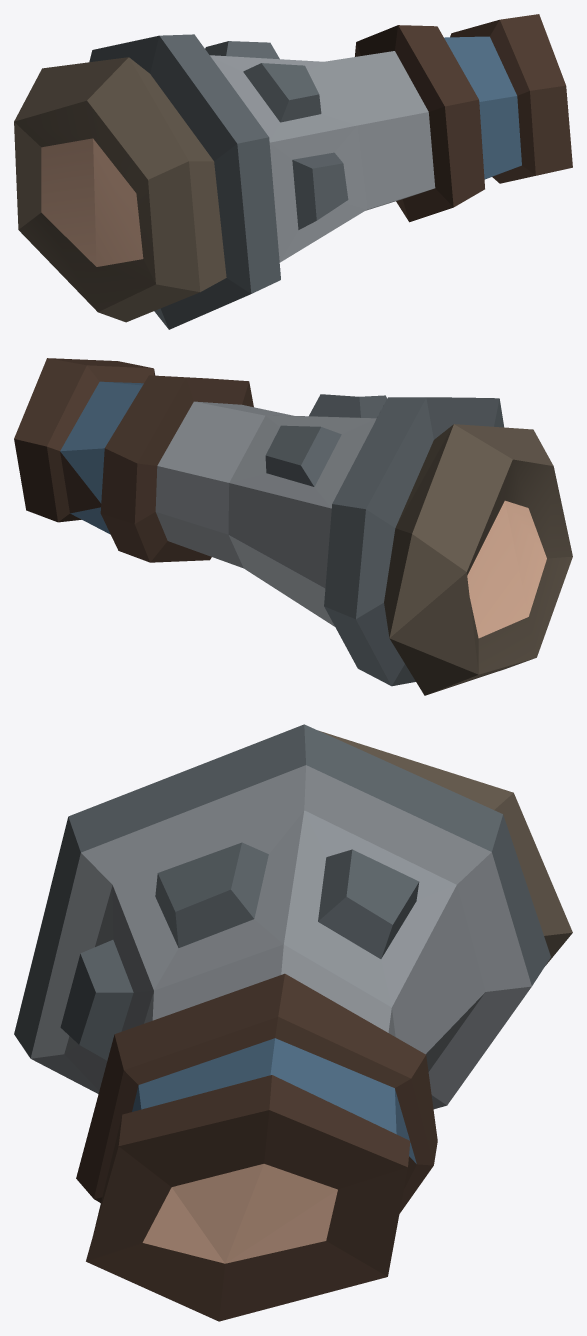
File: Chr_ArmLowerLeft_Male_15_Static.fbx
3 renders of one model, top to bottom at view 1: azimuth 30°, elevation 25°; view 2: azimuth 150°, elevation 25°; view 3: azimuth 270°, elevation 25°, orthographic. The views are drawn at different scales.
Visible parts, largest first — view 1: Chr_ArmLowerLeft_Male_15_Static; view 2: Chr_ArmLowerLeft_Male_15_Static; view 3: Chr_ArmLowerLeft_Male_15_Static.
Part boxes in pixels (<box>): Chr_ArmLowerLeft_Male_15_Static: <box>14,14,572,329</box>; Chr_ArmLowerLeft_Male_15_Static: <box>14,358,572,695</box>; Chr_ArmLowerLeft_Male_15_Static: <box>14,724,572,1321</box>.
Bounding box in the file's own units: 0.3002 × 0.169 × 0.1952.
